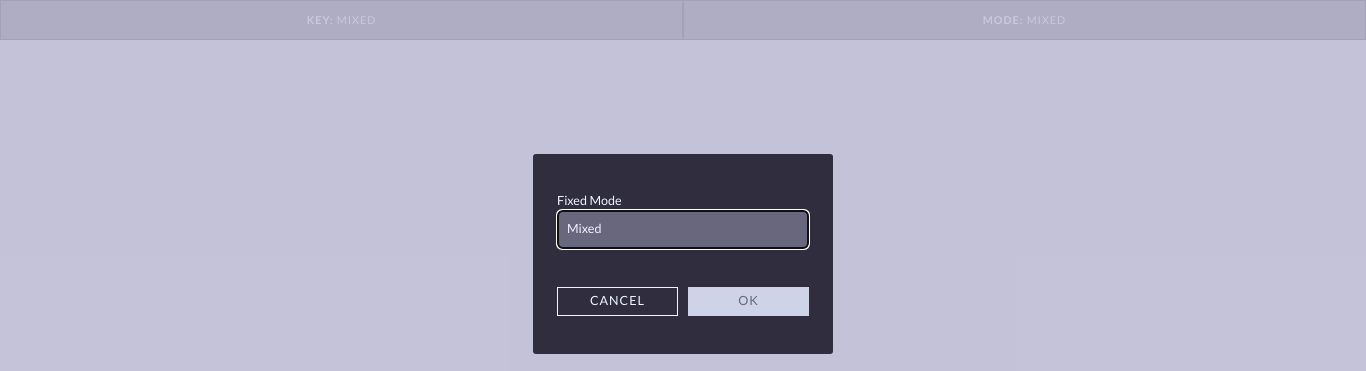
Scenario: Modal › renders the mode selector when modalState=1 and fixes the selected mode
expect the text "Fixed Mode" is shown: met, box [557,192,622,208]
Select "Phrygian" in the dropdown titled "mode". click: (683, 230)
box: [557,210,809,249]
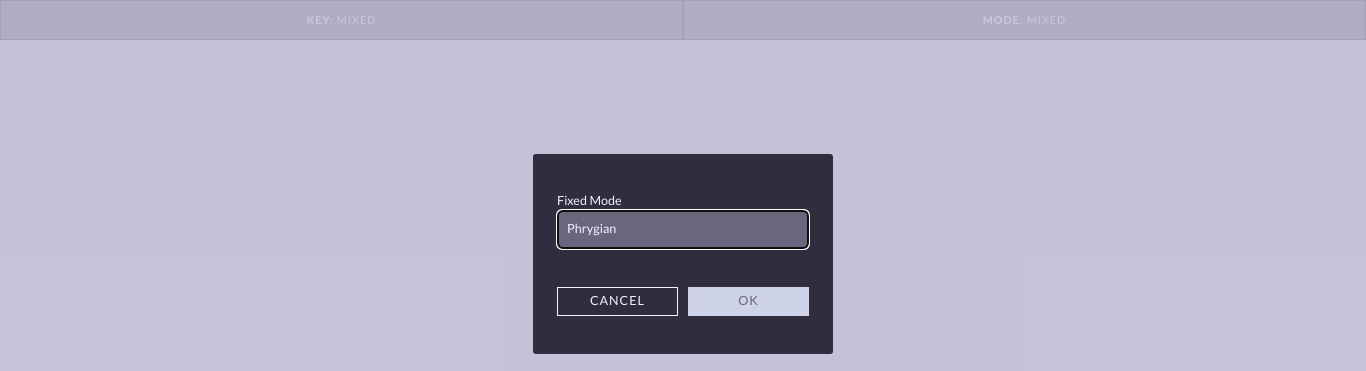
Click the button "OK". click: (748, 301)
box: [688,287,809,316]
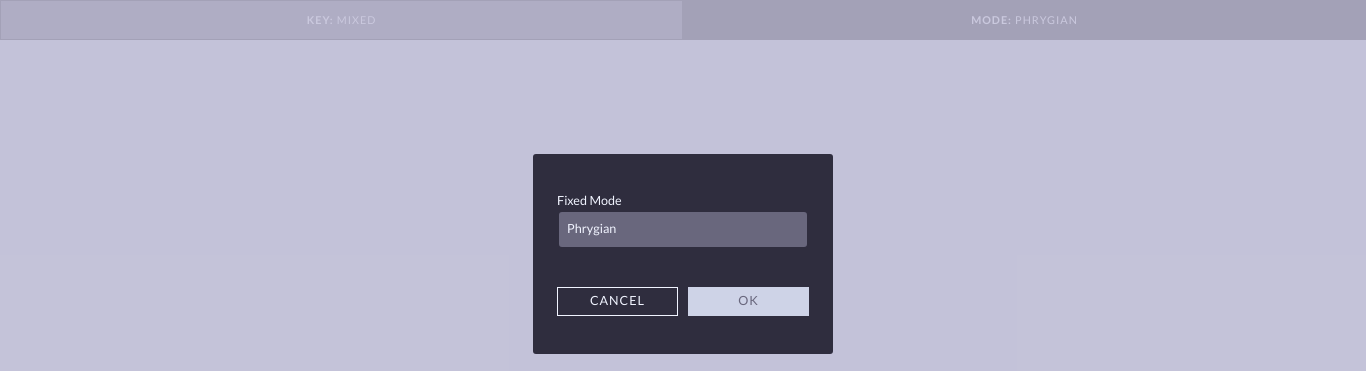
expect the button "Mode: Phrygian" is shown: met, box [683,0,1365,40]
